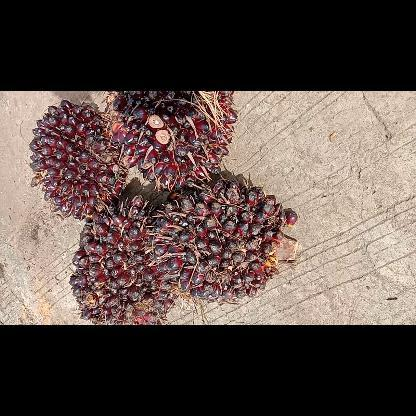TBS mentah: (147, 176, 301, 304), (68, 192, 180, 324), (101, 90, 239, 194), (26, 98, 130, 226)
